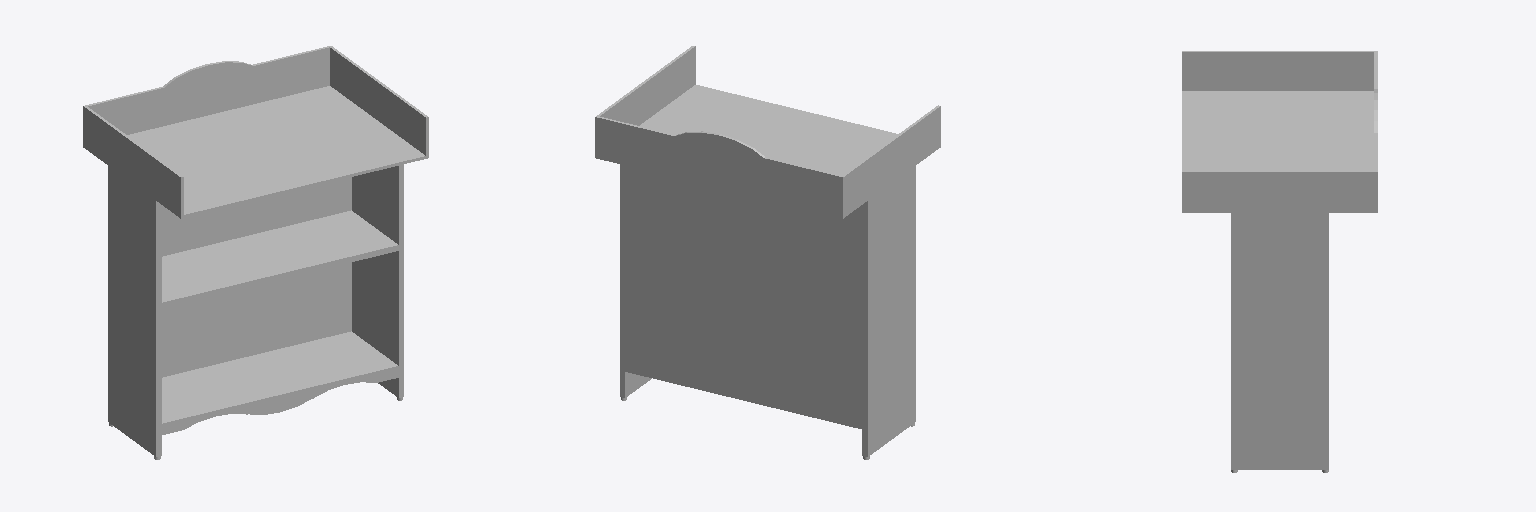
File: ChangingTable_Solgul.obj
3 views of the same model, side by side, from view 1: azimuth 30°, elevation 25°; view 2: azimuth 150°, elevation 25°; view 3: azimuth 270°, elevation 25° (orthographic).
Parts seen in each view (by area): view 1: obj_0; view 2: obj_0; view 3: obj_0.
Boxes of the visible parts, x1=… form: obj_0: x1=83, y1=46, x2=428, y2=459; obj_0: x1=595, y1=46, x2=940, y2=459; obj_0: x1=1182, y1=51, x2=1377, y2=472.
Bounding box in the file's own units: 88 × 106 × 60.